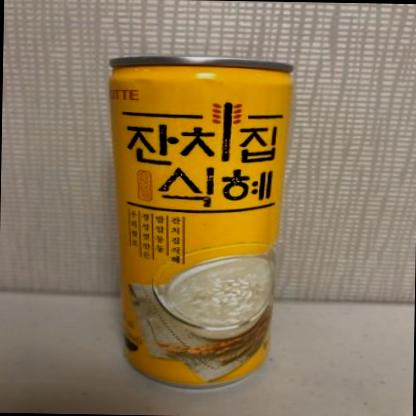alumunium_can: (92, 44, 302, 402)
